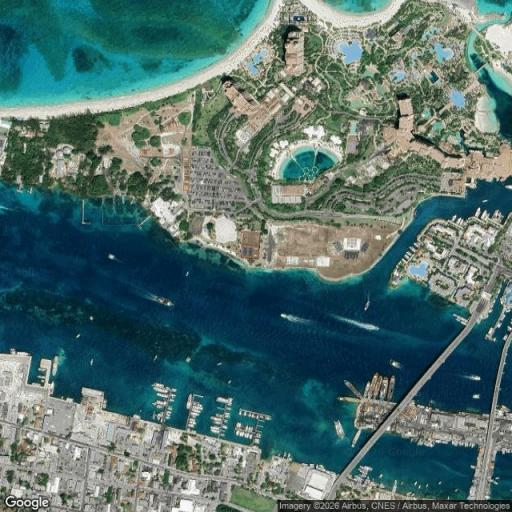ship: (211, 397, 232, 436), (239, 408, 271, 420), (344, 380, 362, 398), (235, 422, 254, 439), (362, 291, 374, 316), (152, 383, 175, 396), (368, 372, 378, 399), (9, 346, 33, 357), (373, 375, 383, 399), (388, 358, 405, 372), (387, 376, 395, 401), (379, 377, 388, 399), (360, 462, 378, 473), (156, 297, 174, 307), (335, 420, 344, 438), (352, 429, 361, 447), (480, 208, 491, 222), (216, 396, 232, 405), (357, 467, 373, 476), (152, 400, 167, 408), (52, 356, 58, 376), (152, 383, 167, 390), (364, 381, 370, 398), (191, 404, 205, 411), (189, 407, 203, 414), (449, 214, 461, 222), (492, 208, 498, 224), (190, 410, 202, 418), (210, 426, 221, 434), (36, 365, 47, 373), (407, 245, 418, 253), (102, 398, 110, 409), (191, 402, 205, 408), (185, 422, 197, 429), (412, 240, 421, 249), (156, 392, 169, 398), (187, 394, 192, 409), (402, 254, 411, 262), (211, 416, 221, 423), (458, 218, 465, 228), (168, 393, 176, 401), (455, 217, 463, 225), (392, 480, 397, 492), (475, 208, 481, 218), (165, 409, 171, 419), (406, 250, 414, 257), (34, 375, 46, 379), (188, 421, 197, 426), (31, 382, 42, 386), (190, 414, 198, 419), (189, 418, 198, 422), (169, 388, 176, 392), (506, 185, 511, 189), (482, 200, 487, 203)
